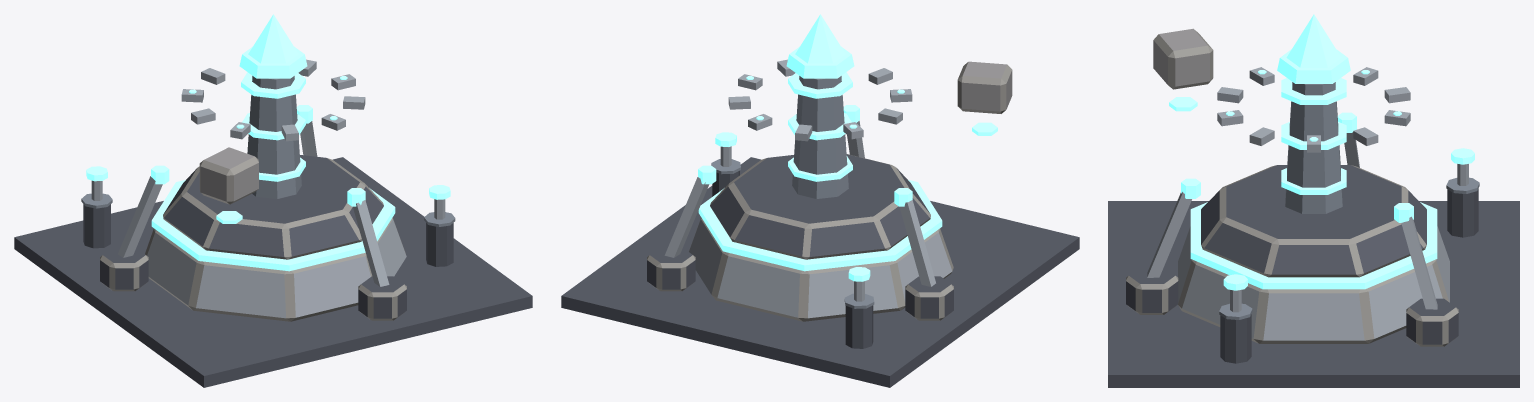
The model's file is terraplenagem_sem_textura.glb.
3 views of the same model, side by side, from view 1: azimuth 30°, elevation 25°; view 2: azimuth 150°, elevation 25°; view 3: azimuth 270°, elevation 25° (orthographic). The views are drawn at different scales.
Visible parts, largest first — view 1: terraplenagem_corpo, terraplenagem_cabecote, terraplenagem_antena, terraplenagem_cristal, terraplenagem_pistao0, terraplenagem_pistao1; view 2: terraplenagem_corpo, terraplenagem_cabecote, terraplenagem_antena, terraplenagem_cristal, terraplenagem_pistao1, terraplenagem_pistao0; view 3: terraplenagem_corpo, terraplenagem_cabecote, terraplenagem_antena, terraplenagem_cristal, terraplenagem_pistao1, terraplenagem_pistao0.
Boxes of the visible parts, bbox=[...] form: terraplenagem_corpo: bbox=[14, 72, 532, 387]; terraplenagem_cabecote: bbox=[199, 147, 258, 223]; terraplenagem_antena: bbox=[181, 59, 365, 141]; terraplenagem_cristal: bbox=[239, 14, 307, 78]; terraplenagem_pistao0: bbox=[86, 166, 107, 200]; terraplenagem_pistao1: bbox=[429, 185, 450, 219]; terraplenagem_corpo: bbox=[561, 72, 1079, 387]; terraplenagem_cabecote: bbox=[957, 61, 1012, 135]; terraplenagem_antena: bbox=[728, 59, 912, 141]; terraplenagem_cristal: bbox=[786, 14, 854, 78]; terraplenagem_pistao1: bbox=[715, 132, 736, 166]; terraplenagem_pistao0: bbox=[848, 267, 870, 301]; terraplenagem_corpo: bbox=[1108, 78, 1519, 387]; terraplenagem_cabecote: bbox=[1153, 28, 1213, 111]; terraplenagem_antena: bbox=[1217, 67, 1410, 152]; terraplenagem_cristal: bbox=[1277, 14, 1350, 83]; terraplenagem_pistao1: bbox=[1223, 274, 1247, 312]; terraplenagem_pistao0: bbox=[1451, 148, 1474, 185].
Size of the model in its own units: 2.9 by 2.23 by 2.9.
